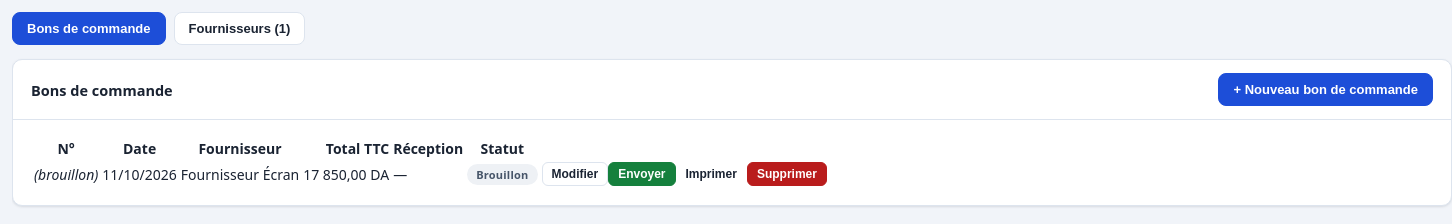
Scenario: Écran Achats › affiche les bons de commande et ouvre l'onglet fournisseurs
Expected: the text "Fournisseur Écran" is shown, [180,161,300,187]
Expected: the text "(brouillon)" is shown, [34,164,98,184]
Click the button "Fournisseurs (1)" at (239, 28), box [174,12,305,45]
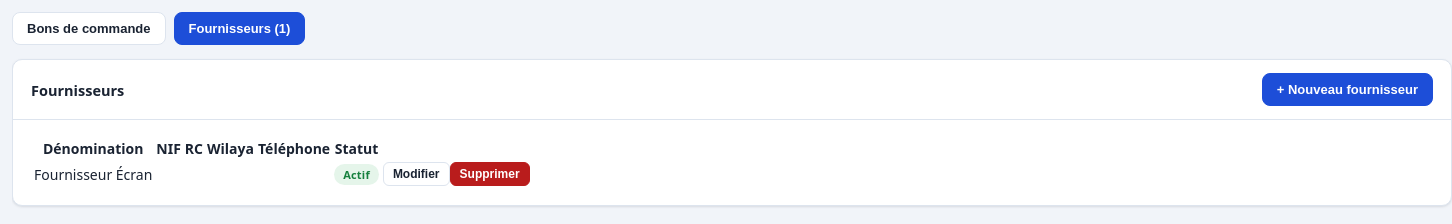
Expected: the button "+ Nouveau fournisseur" is shown, [1262,73,1433,106]
